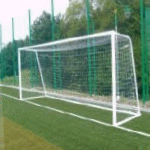goals: (16, 29, 140, 129)
